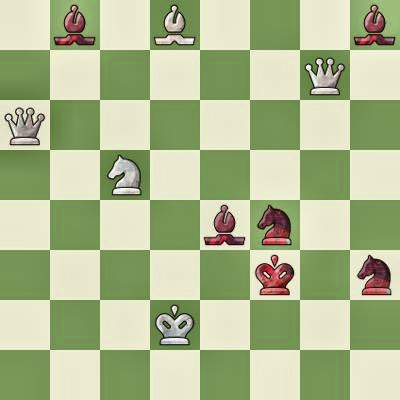black-bishop: (50, 0, 100, 50), (350, 0, 400, 50), (200, 200, 250, 250)
black-king: (250, 250, 300, 300)
black-knight: (250, 200, 300, 250), (350, 250, 400, 300)
white-bishop: (150, 0, 200, 50)
white-king: (150, 300, 200, 350)
white-knight: (100, 150, 150, 200)
white-queen: (300, 50, 350, 100), (0, 100, 50, 150)
